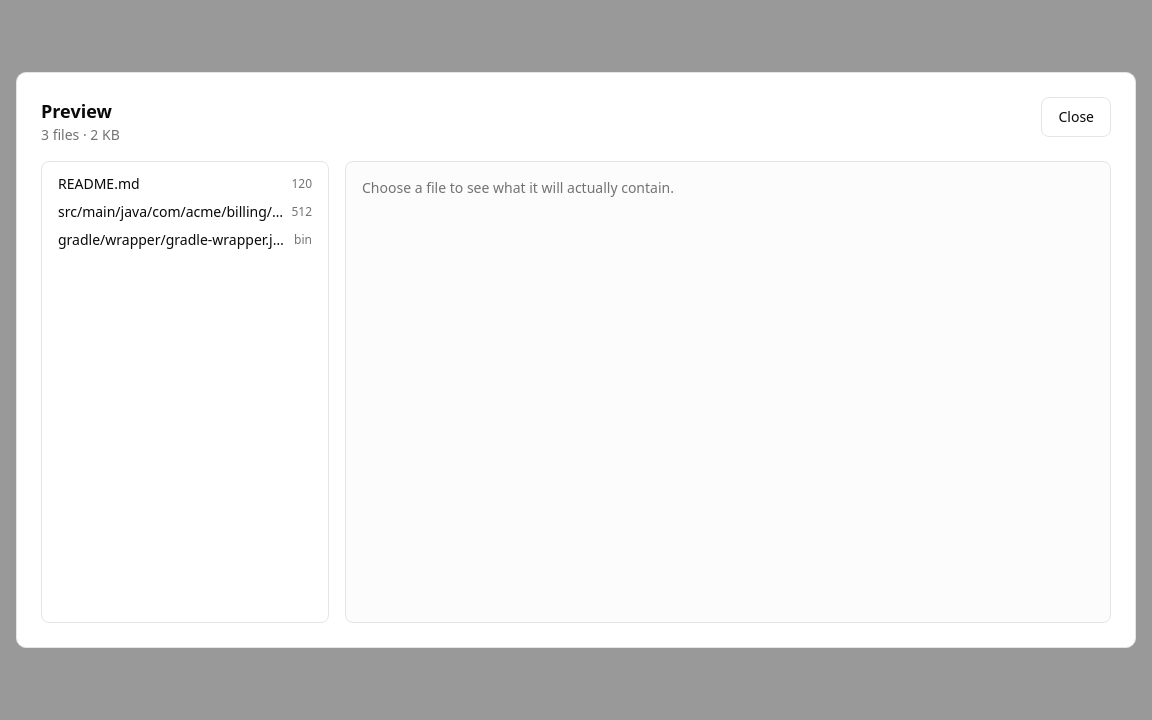
Test: PreviewDialog › says a binary file is binary rather than rendering its bytes
This screenshot has width=1152, height=720.
expect the text "README.md" is shown: met, box 58,174 -> 140,194
Click the button "gradle/wrapper/gradle-wrapper.jar bin" at point(185, 240), box 50,226 -> 320,254
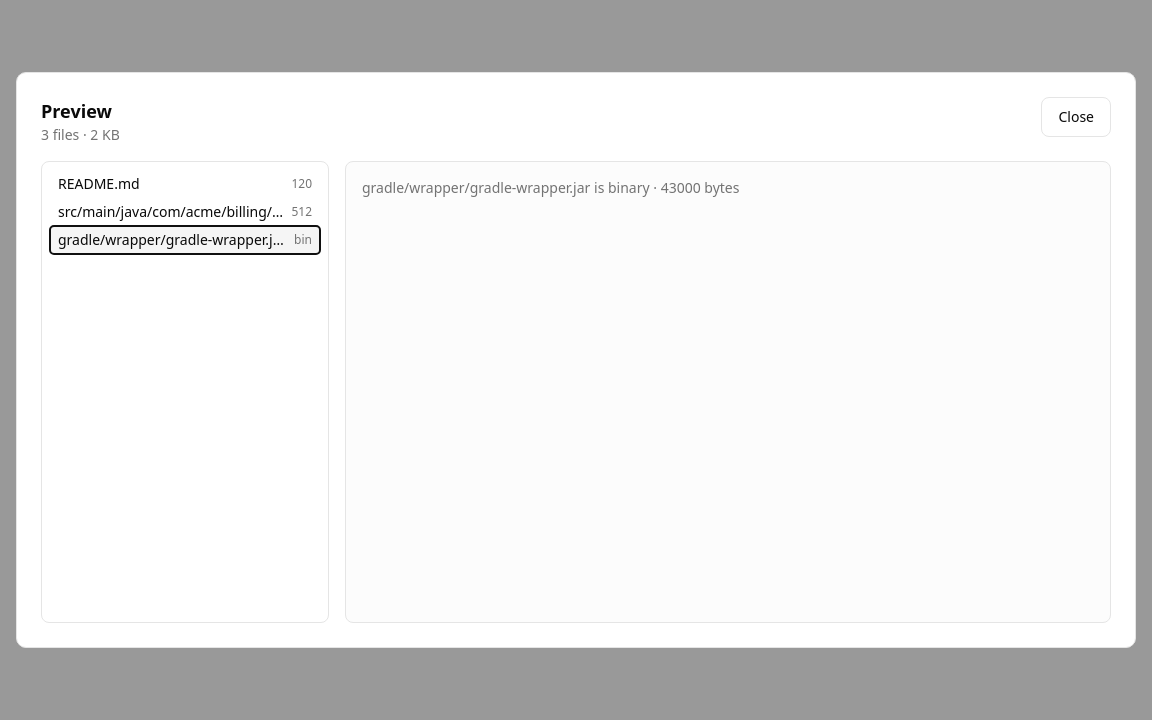
expect the text "gradle/wrapper/gradle-wrapper.jar is binary · 43000 bytes" is shown: met, box 362,178 -> 740,197
